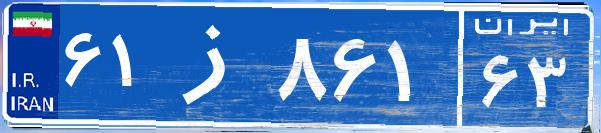1: (385, 28, 445, 110), (110, 28, 158, 105)
3: (525, 38, 570, 115)
6: (330, 28, 385, 110), (57, 26, 110, 107), (475, 38, 525, 113)
8: (273, 28, 330, 110)
ز: (158, 15, 273, 115)
